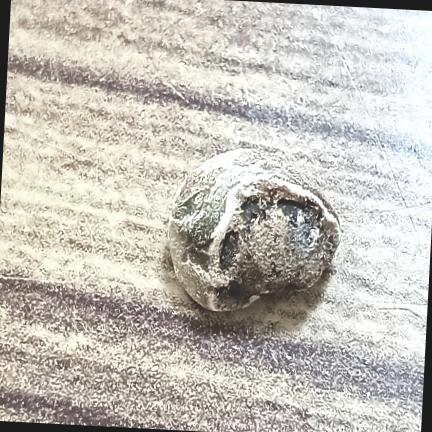cut: (168, 149, 340, 311)
